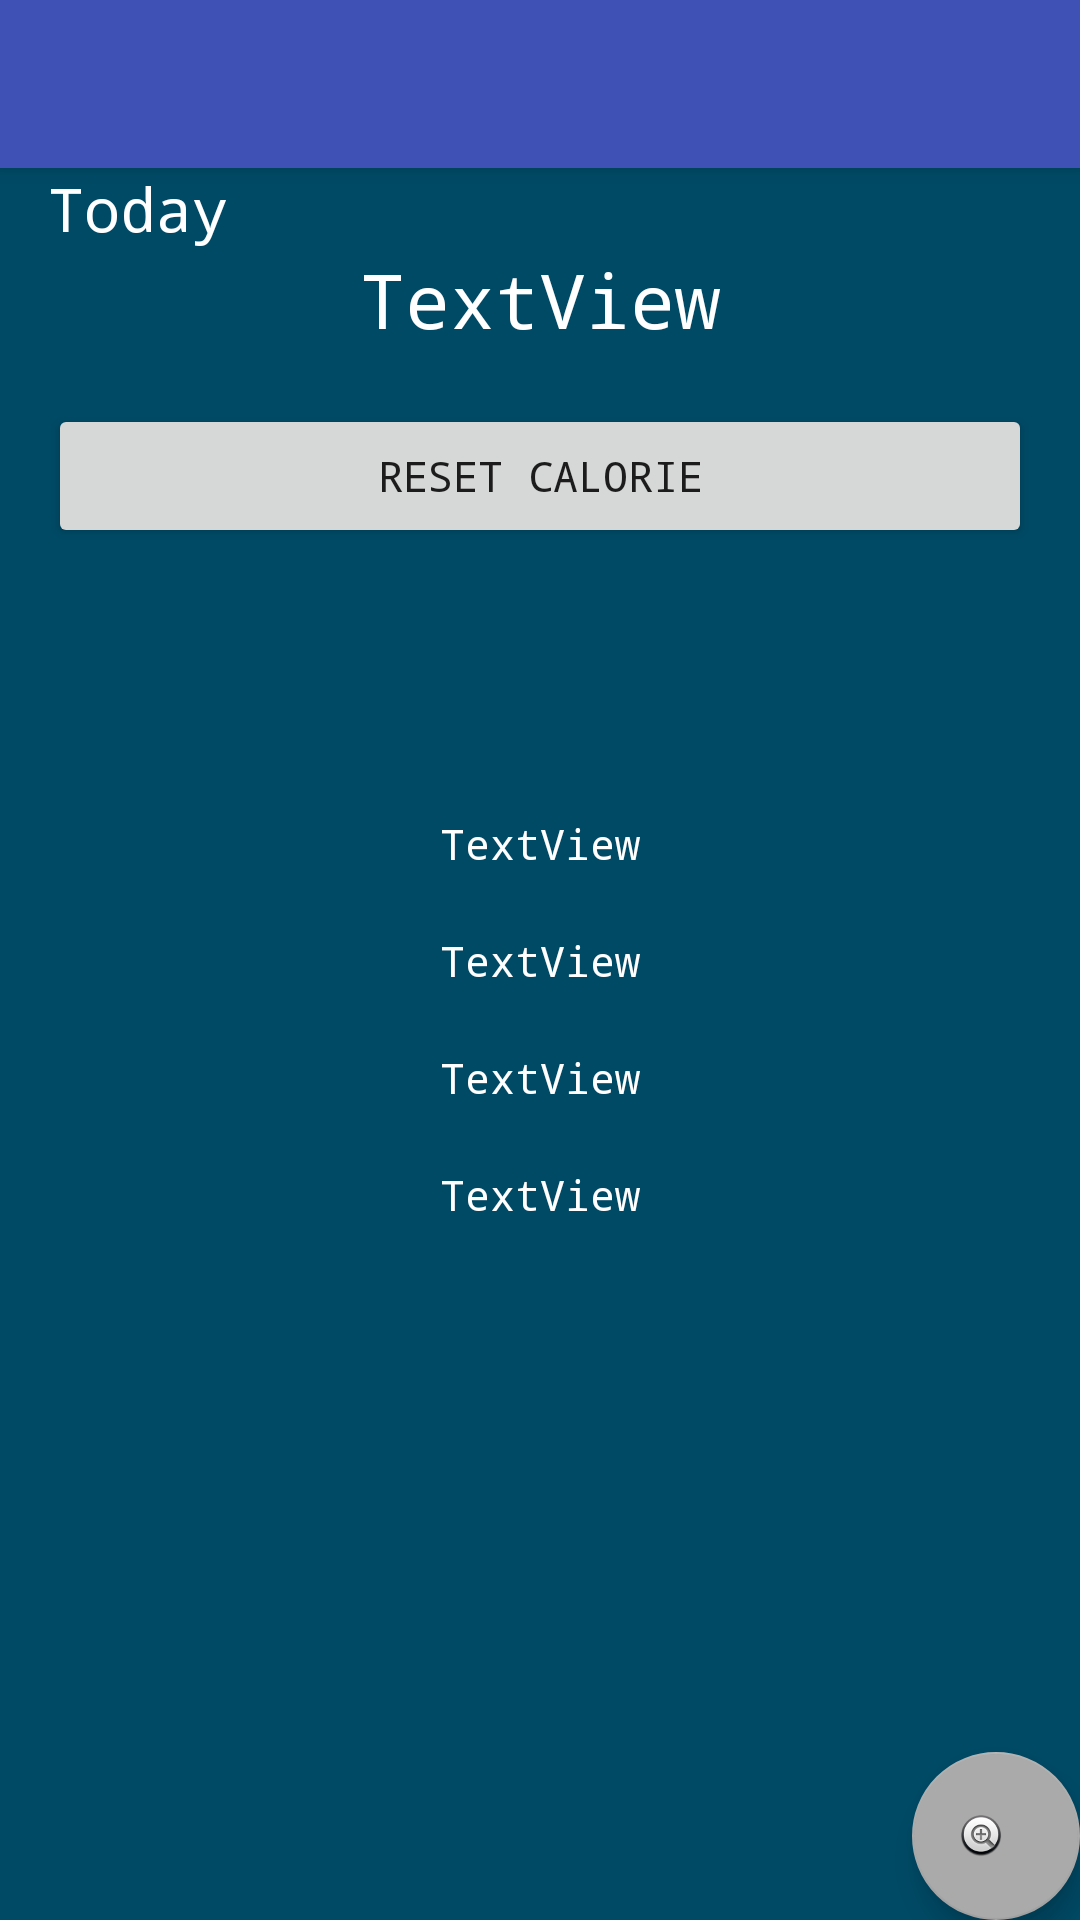

Point at icon controls on the screen. Image size 1080*1920, points as [x,y].
plus: [996,1836]
